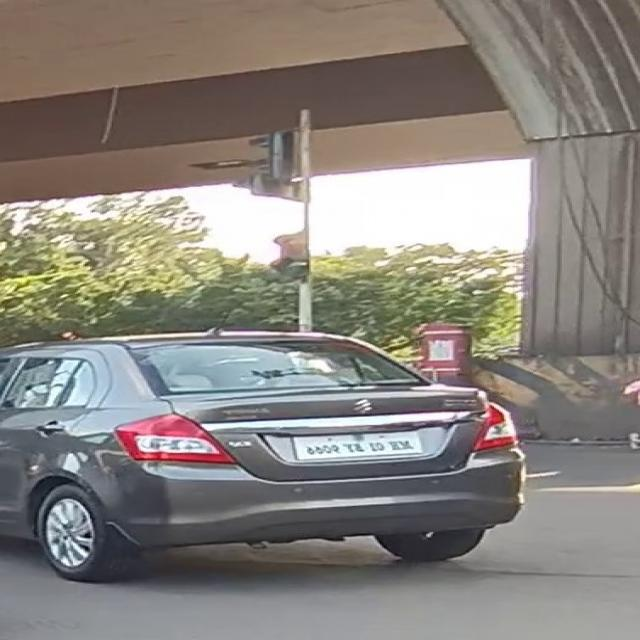license_plate: (285, 426, 426, 464)
